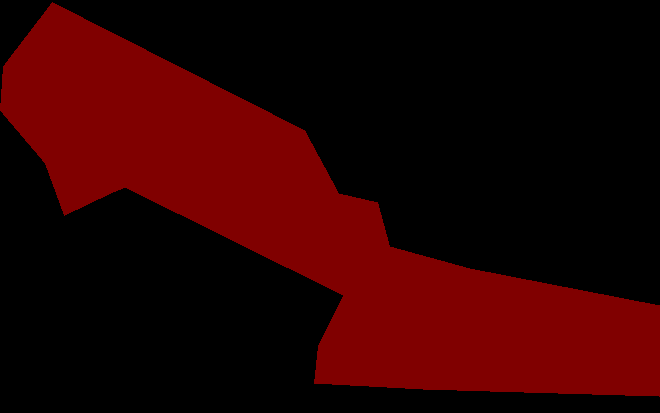fire: (0, 2, 659, 396)
